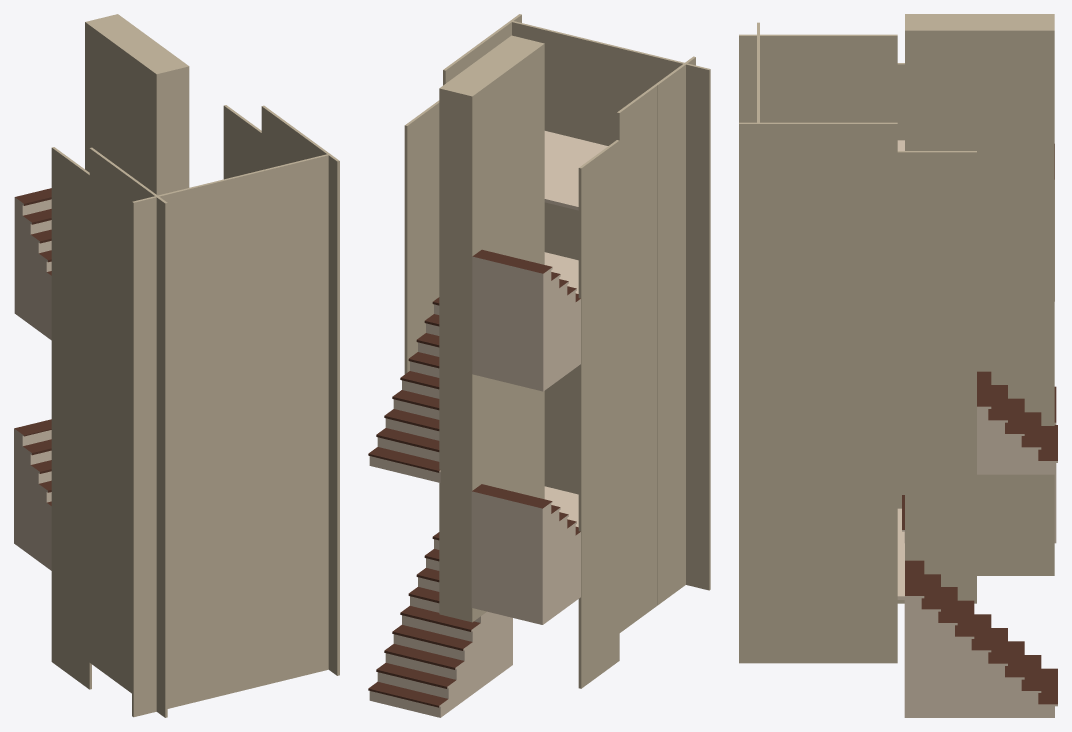
The model's file is Merdiven.fbx.
3 renders of one model, left to right at view 1: azimuth 30°, elevation 25°; view 2: azimuth 150°, elevation 25°; view 3: azimuth 270°, elevation 25°, orthographic. The views are drawn at different scales.
Parts seen in each view (by area): view 1: Cube.019, Cube.085, Cube.083, Cube.087, Cube.089, Cube.091, Cube.086, Cube.090, Cube.084, Cube.092, Cube.088, Cube.094 (+28 smaller); view 2: Cube.019, Cube.018, Cube.017, Cube.042, Cube.065, Cube.016, Cube.085, Cube.046, Cube.056, Cube.062, Cube.054, Cube.051 (+26 smaller); view 3: Cube.019, Cube.018, Cube.065, Cube.047, Cube.038, Cube.048, Cube.040, Cube.067, Cube.069, Cube.071, Cube.041, Cube.070 (+10 smaller).
Part boxes in pixels (bbox=[...]): Cube.019: bbox=[85, 14, 189, 195]; Cube.085: bbox=[198, 170, 264, 289]; Cube.083: bbox=[199, 274, 264, 392]; Cube.087: bbox=[199, 479, 264, 598]; Cube.089: bbox=[199, 376, 264, 495]; Cube.091: bbox=[199, 582, 264, 701]; Cube.086: bbox=[263, 154, 328, 273]; Cube.090: bbox=[264, 361, 328, 479]; Cube.084: bbox=[264, 258, 328, 376]; Cube.092: bbox=[264, 567, 328, 685]; Cube.088: bbox=[264, 464, 328, 582]; Cube.094: bbox=[132, 186, 198, 305]; Cube.019: bbox=[439, 35, 544, 359]; Cube.018: bbox=[439, 351, 544, 622]; Cube.017: bbox=[471, 484, 580, 624]; Cube.042: bbox=[472, 249, 580, 391]; Cube.065: bbox=[368, 532, 512, 717]; Cube.016: bbox=[368, 297, 440, 482]; Cube.085: bbox=[576, 37, 643, 145]; Cube.046: bbox=[578, 140, 619, 272]; Cube.056: bbox=[578, 349, 619, 480]; Cube.062: bbox=[578, 557, 619, 688]; Cube.054: bbox=[578, 453, 619, 584]; Cube.051: bbox=[617, 84, 657, 216]; Cube.019: bbox=[905, 14, 1054, 303]; Cube.018: bbox=[905, 303, 1054, 575]; Cube.065: bbox=[904, 560, 1057, 717]; Cube.047: bbox=[818, 122, 897, 231]; Cube.038: bbox=[897, 151, 976, 260]; Cube.048: bbox=[739, 122, 818, 231]; Cube.040: bbox=[818, 231, 897, 339]; Cube.067: bbox=[818, 447, 897, 555]; Cube.069: bbox=[818, 339, 897, 447]; Cube.071: bbox=[818, 555, 897, 663]; Cube.041: bbox=[739, 231, 818, 339]; Cube.070: bbox=[739, 339, 818, 447].
Bounding box in the file's own units: 1206 × 3627 × 1608.
